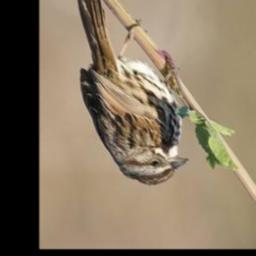Sparrow: (76, 0, 191, 189)
